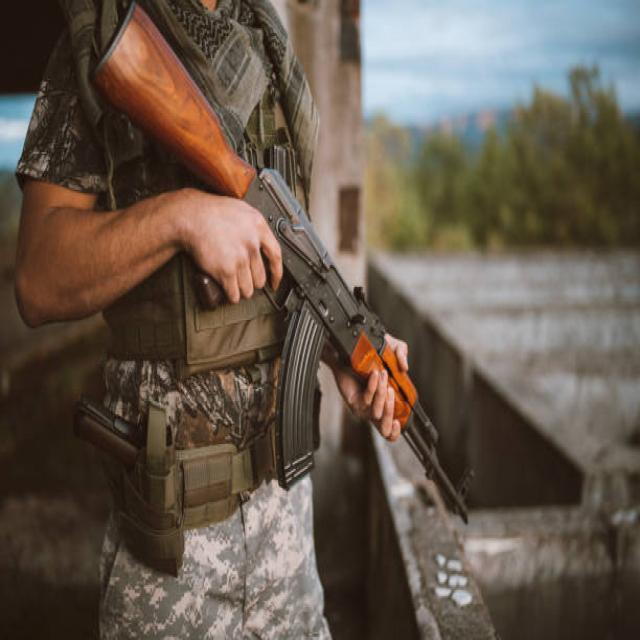Rifle: (90, 1, 477, 527)
